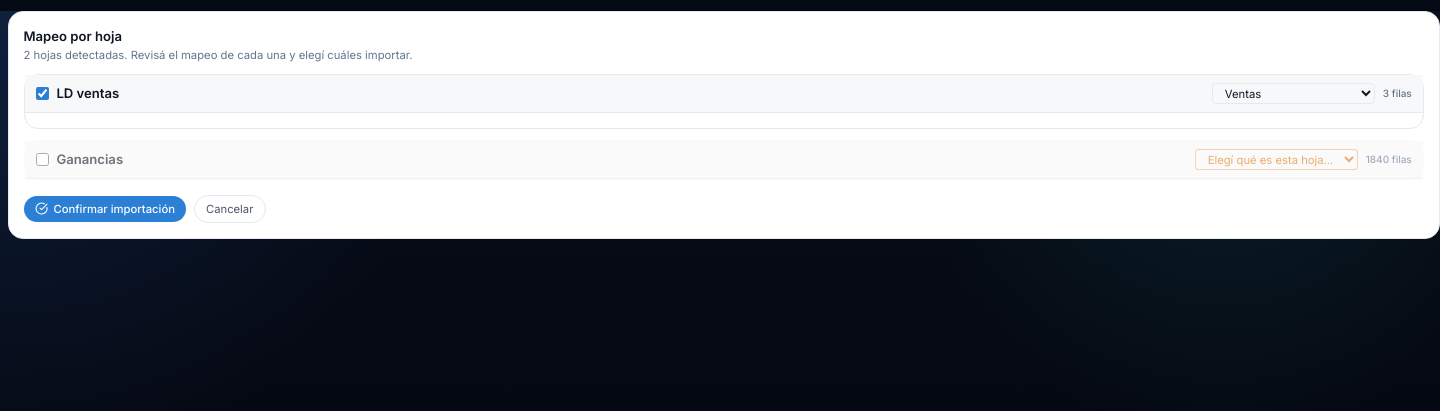
Test: ColumnMapperPanel — hojas sin clasificar › tildarla sin elegir sección bloquea el confirm con el motivo
Expected: the text "Ganancias" is shown, [56,150,123,169]
Click the checkbox labelled "Ganancias".
click(42, 159)  # box [36,153,49,166]
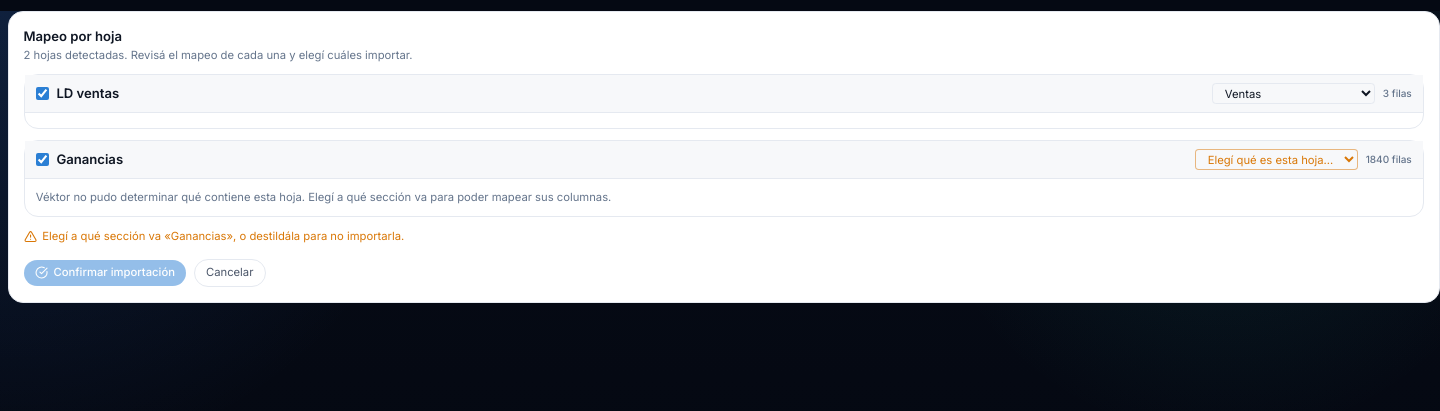
Result: the button "Confirmar importación" is disabled at [24,260,186,286]
Result: the text "o destildá" shows "«Ganancias»" at [164,229,233,243]
